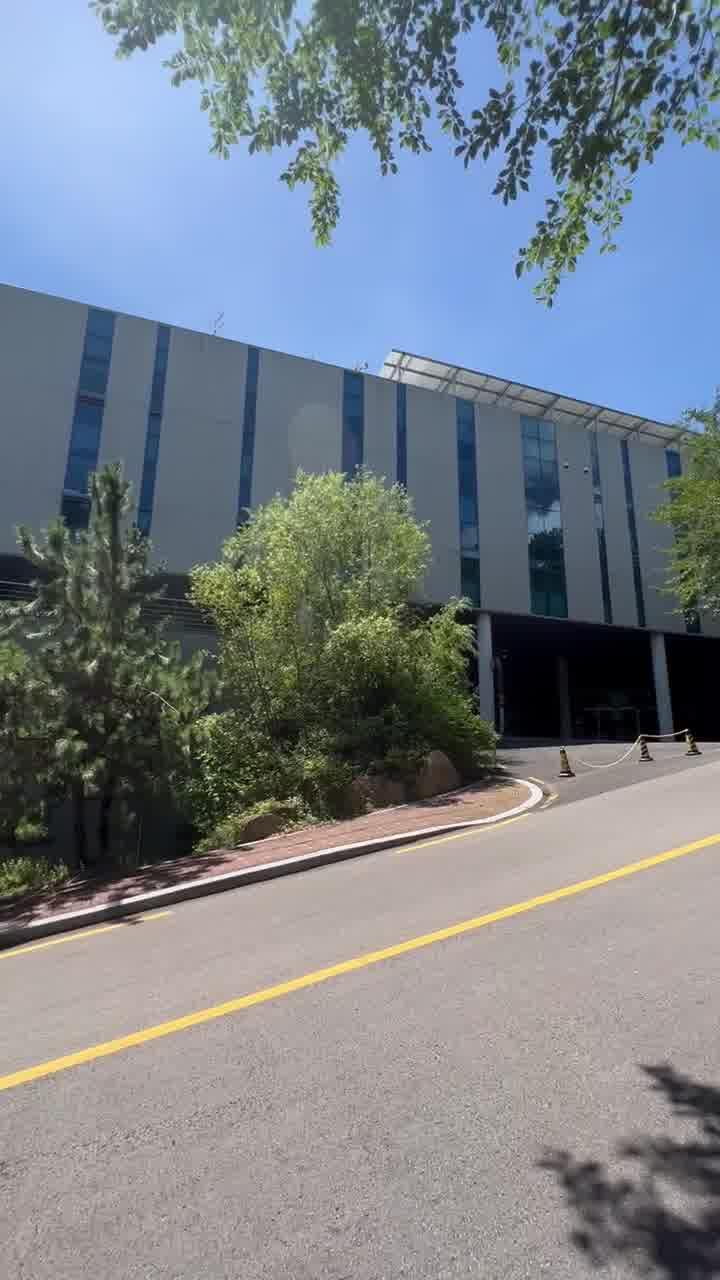building: (0, 256, 680, 628)
